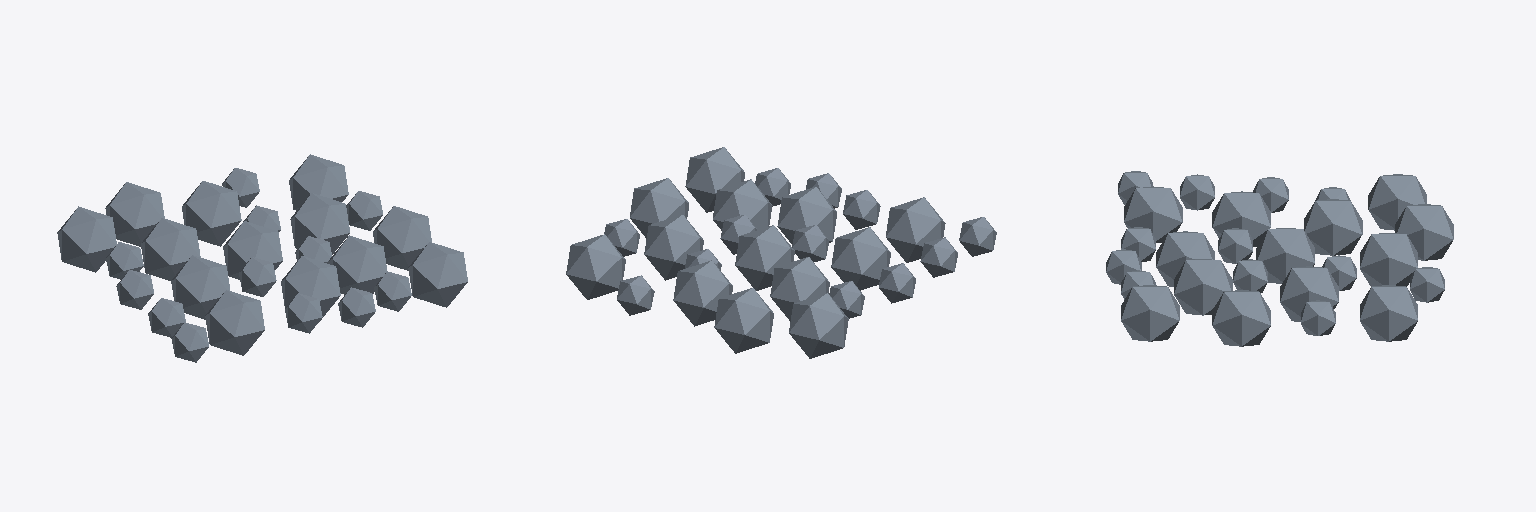
Rendered from small_rocks.obj.
3 views of the same model, side by side, from view 1: azimuth 30°, elevation 25°; view 2: azimuth 150°, elevation 25°; view 3: azimuth 270°, elevation 25° (orthographic).
Bounding box in the file's own units: 120 × 20 × 118.